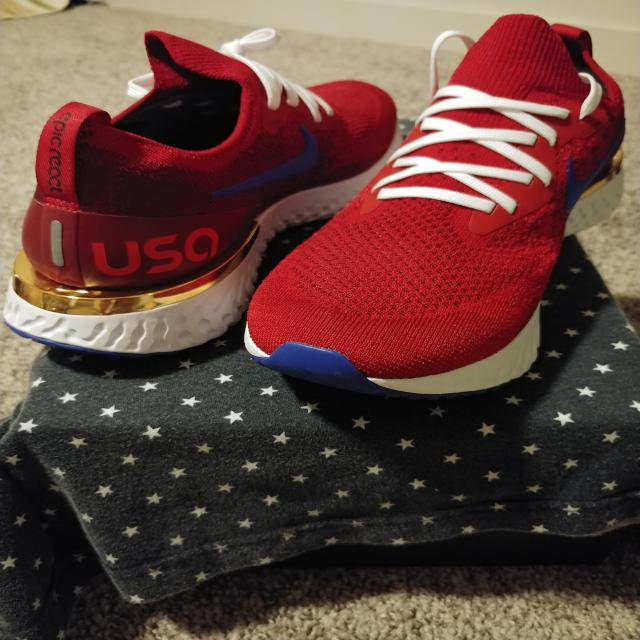shoes: (228, 8, 630, 404), (0, 6, 414, 367)
